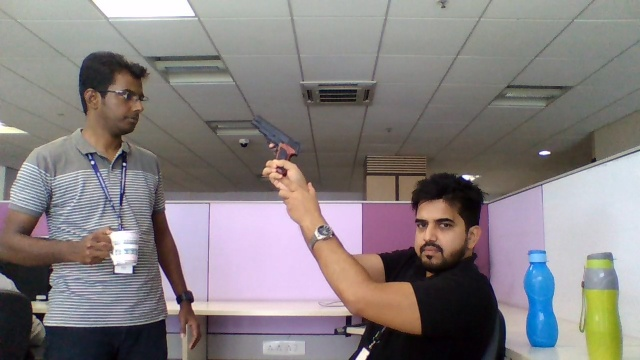gun: (247, 115, 304, 160)
